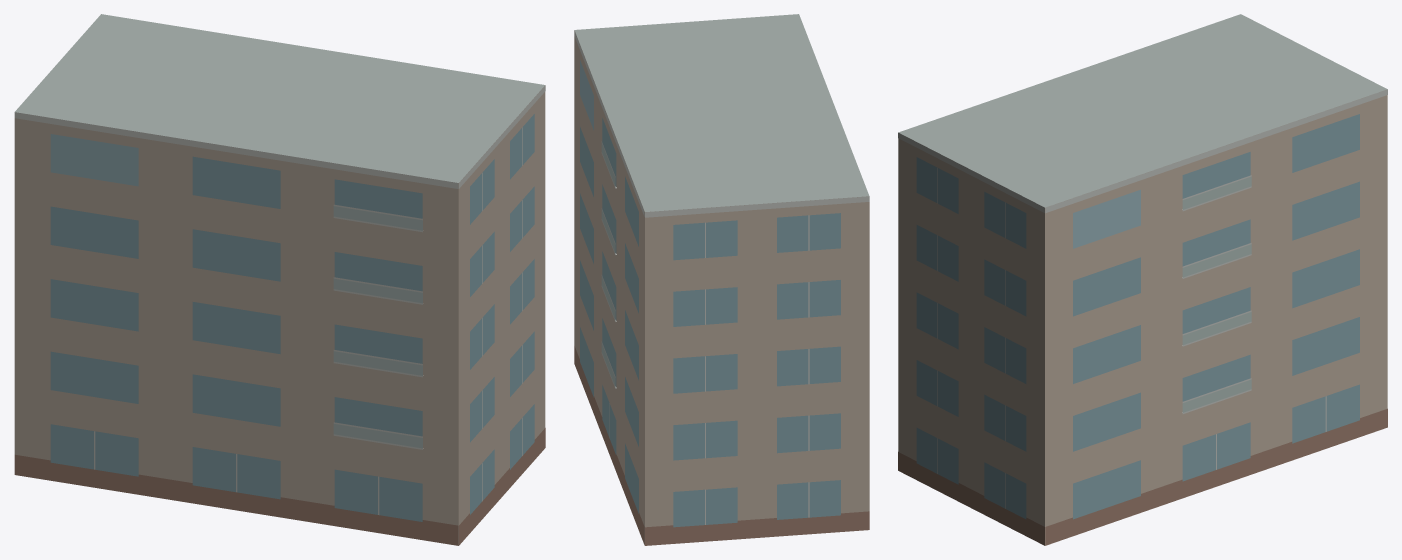
File: survey-upis-32760352.glb
The picture shows the model from 3 angles, left to right: view 1: azimuth 30°, elevation 25°; view 2: azimuth 150°, elevation 25°; view 3: azimuth 270°, elevation 25°; orthographic projection. The views are drawn at different scales.
Visible parts, largest first — view 1: survey-upis-32760352.tmp; view 2: survey-upis-32760352.tmp; view 3: survey-upis-32760352.tmp.
Boxes of the visible parts, <box> form: survey-upis-32760352.tmp: <box>14,14,545,545</box>; survey-upis-32760352.tmp: <box>574,14,869,545</box>; survey-upis-32760352.tmp: <box>898,14,1387,545</box>.
Bounding box in the file's own units: 17.82 × 14.5 × 19.03.
